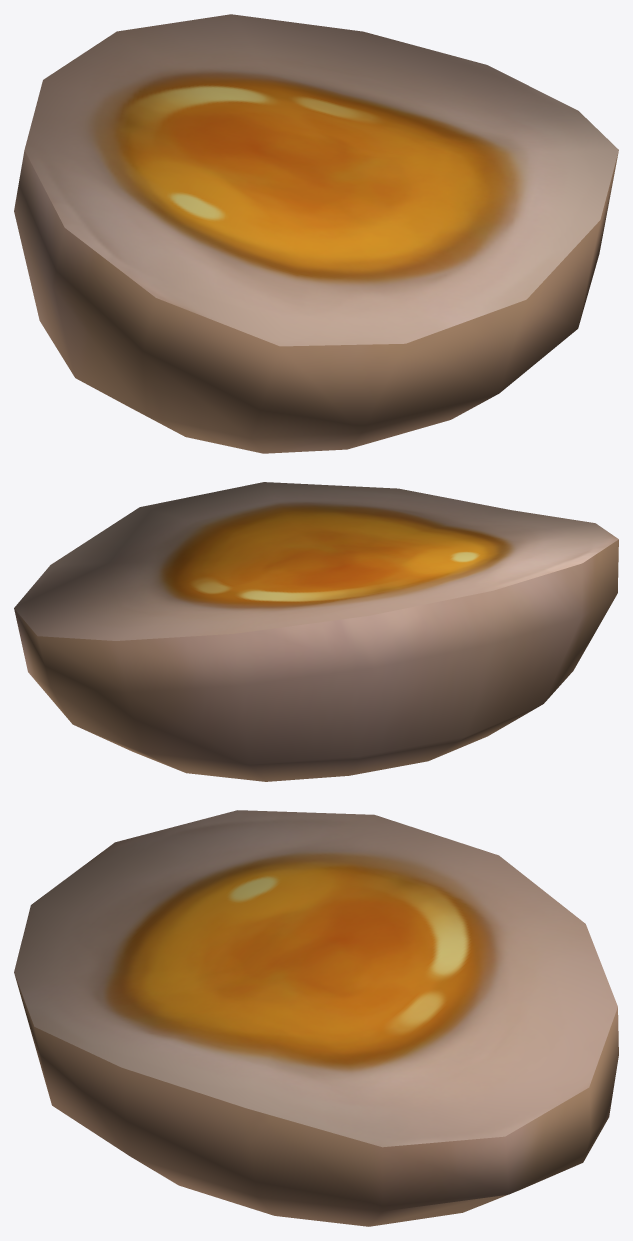
File: Ramen_Egg_01_Free.FBX
3 renders of one model, top to bottom at view 1: azimuth 30°, elevation 25°; view 2: azimuth 150°, elevation 25°; view 3: azimuth 270°, elevation 25°, orthographic. The views are drawn at different scales.
Parts seen in each view (by area): view 1: Object1552; view 2: Object1552; view 3: Object1552.
Boxes of the visible parts, left/top/right/bottom form: Object1552: left=14, top=14, right=618, bottom=453; Object1552: left=14, top=482, right=618, bottom=781; Object1552: left=14, top=810, right=618, bottom=1226.
Bounding box in the file's own units: 31.07 × 12.6 × 30.4.
